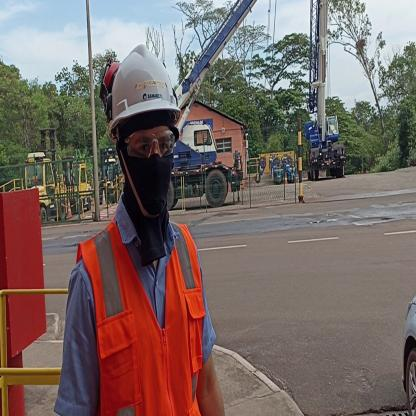Balaclava: (118, 132, 175, 233)
Capacete: (108, 48, 180, 116)
colete: (84, 230, 208, 416)
